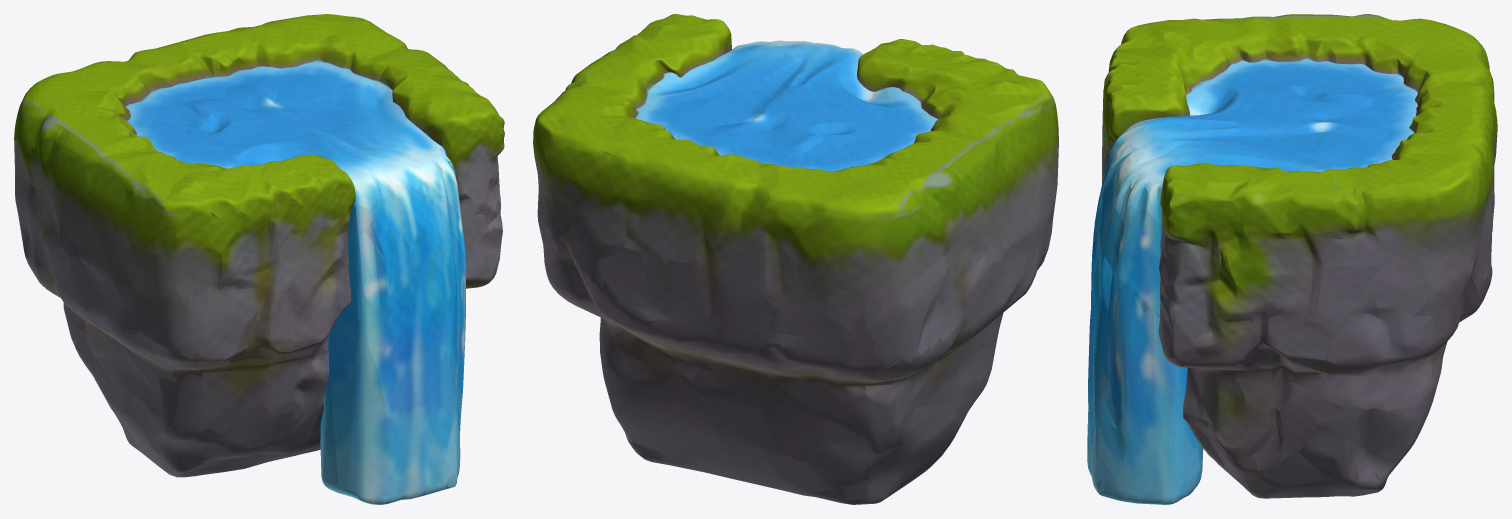
File: waterfall_island.glb
The picture shows the model from 3 angles, left to right: view 1: azimuth 30°, elevation 25°; view 2: azimuth 150°, elevation 25°; view 3: azimuth 270°, elevation 25°; orthographic projection. The views are drawn at different scales.
Visible parts, largest first — view 1: output_unwrapped; view 2: output_unwrapped; view 3: output_unwrapped.
Boxes of the visible parts, <box> form: output_unwrapped: <box>14,14,504,504</box>; output_unwrapped: <box>533,14,1058,504</box>; output_unwrapped: <box>1087,14,1497,504</box>.
Size of what is drawn, in the model's own units: 1.18 by 1 by 1.06.
Materials: 1 (1 with a texture image).
